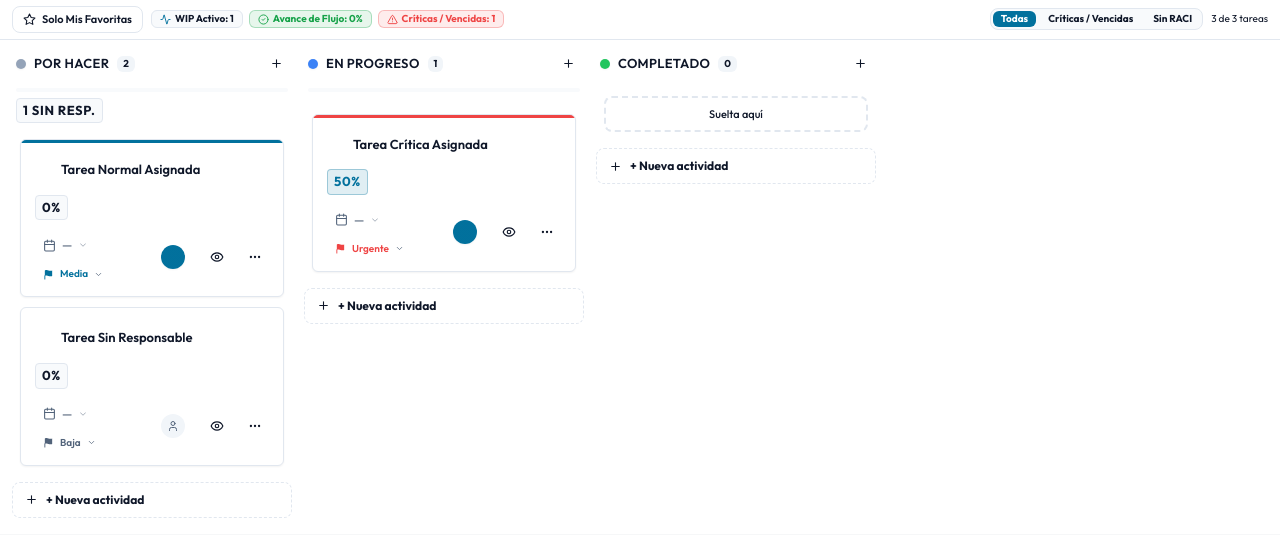
Test case: ProjectKanbanBoard › filters board tasks using PMI critical and unassigned RACI filters
Expected: the text "Tarea Normal Asignada" is shown, [61,161,200,177]
Expected: the text "Tarea Crítica Asignada" is shown, [353,136,488,152]
Click the button with test id "kanban-filter-critical" at (1091, 19), box [1040,11,1141,27]
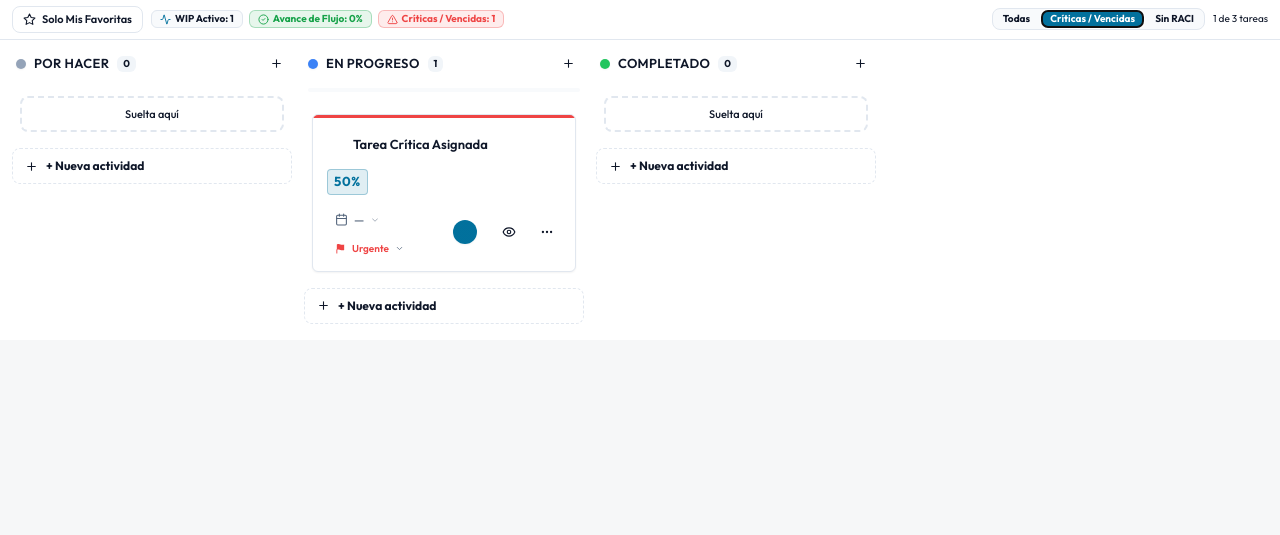
Expected: the text "Tarea Crítica Asignada" is shown, [353,136,488,152]
Now the button "Tarea Normal Asignada" is gone
Now the button "Tarea Sin Responsable" is gone
Click the button with test id "kanban-filter-unassigned" at (1175, 19), box [1147,11,1202,27]
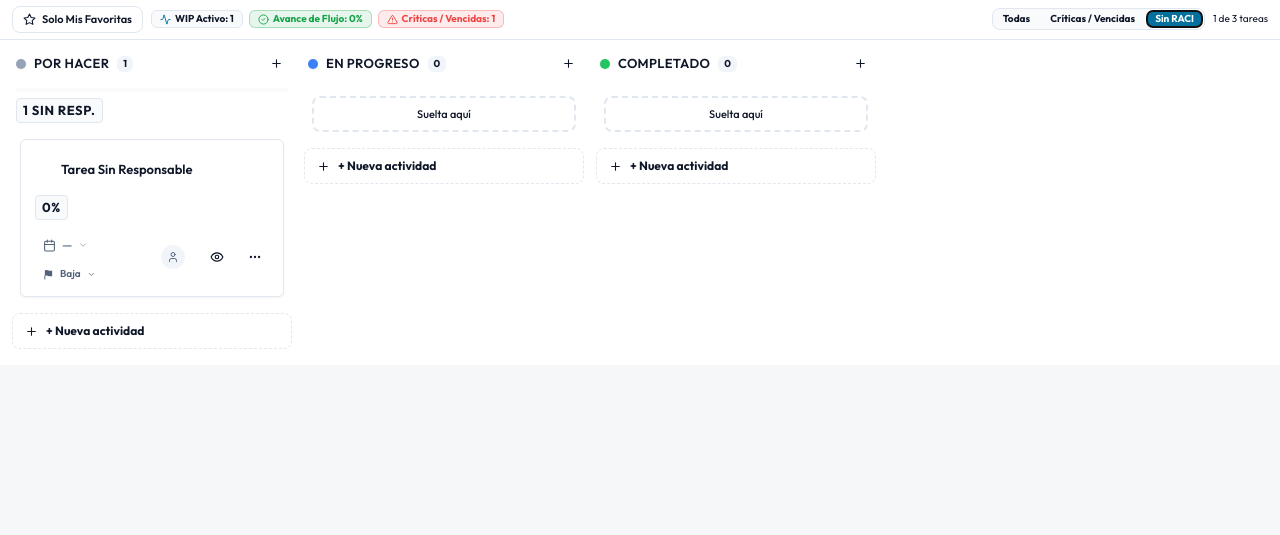
Expected: the button "Tarea Normal Asignada" is not shown
Now the button "Tarea Crítica Asignada" is gone
Now the text "Tarea Sin Responsable" is shown, box [61,161,193,177]
Click the button with test id "kanban-filter-all" at (1016, 19), box [995,11,1038,27]
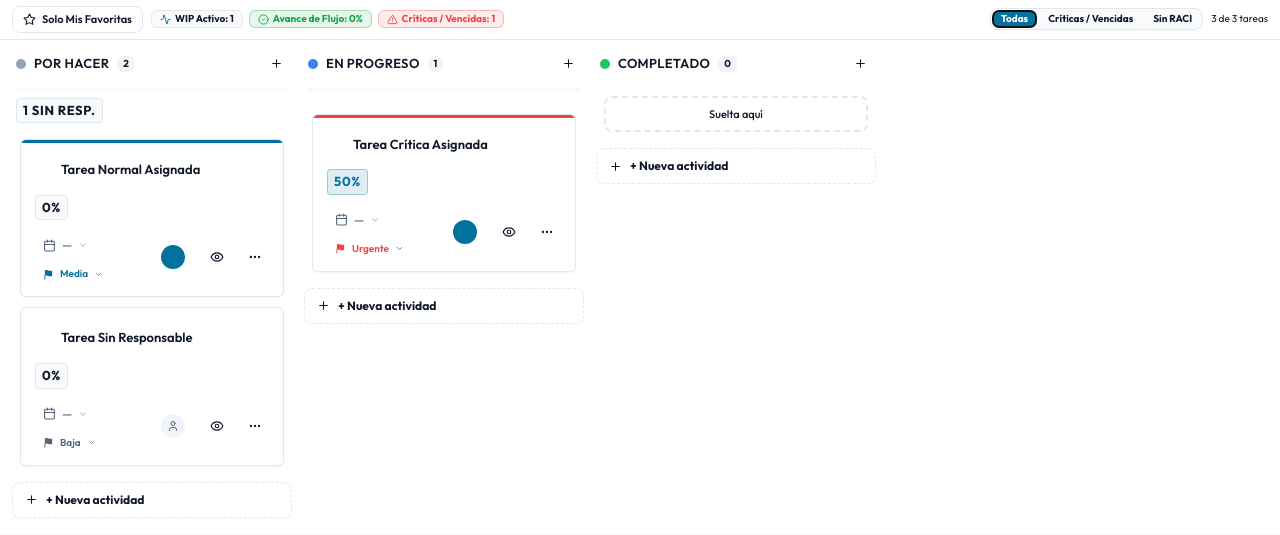
Now the text "Tarea Sin Responsable" is shown, box [61,329,193,345]
Now the text "Tarea Normal Asignada" is shown, box [61,161,200,177]
Now the text "Tarea Crítica Asignada" is shown, box [353,136,488,152]
